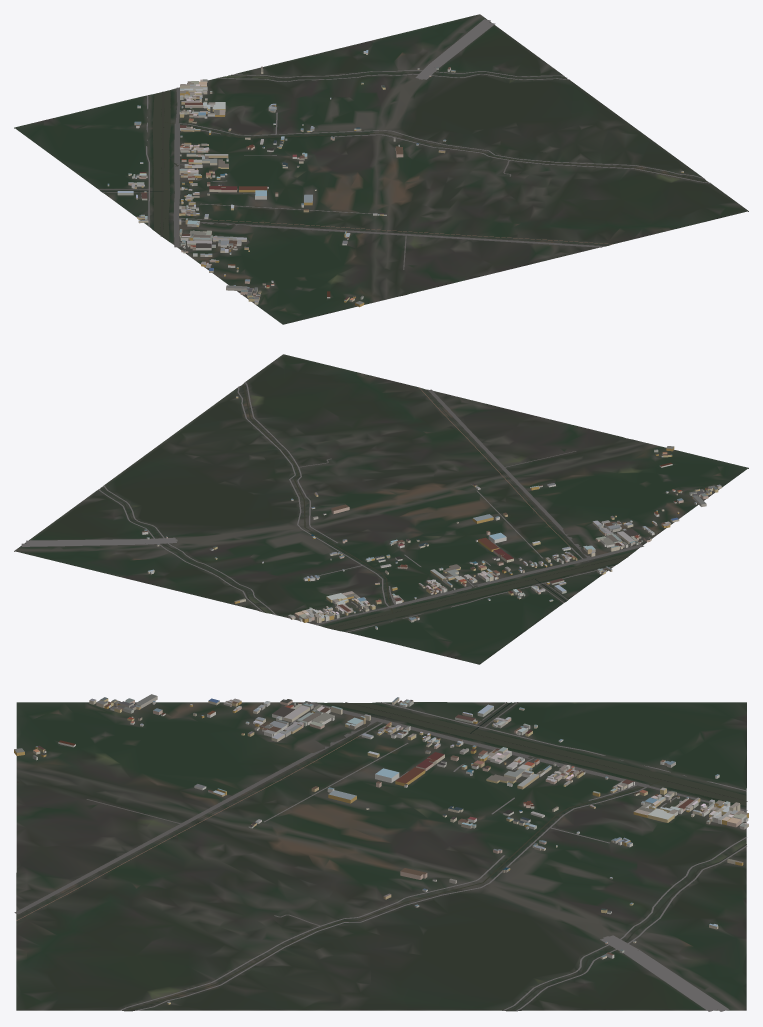
3 views of the same model, one above another, from view 1: azimuth 30°, elevation 25°; view 2: azimuth 150°, elevation 25°; view 3: azimuth 270°, elevation 25° (orthographic). The views are drawn at different scales.
Visible parts, largest first — view 1: ground, buildings, roads, water; view 2: ground, buildings, roads, water; view 3: ground, buildings, roads, water.
Boxes of the visible parts, box(x1,y1,x2,y2) form: ground: box(14, 14, 748, 324); buildings: box(107, 50, 683, 307); roads: box(98, 19, 710, 269); water: box(101, 72, 707, 295); ground: box(14, 354, 748, 664); buildings: box(142, 396, 721, 629); roads: box(21, 382, 643, 632); water: box(101, 384, 633, 630); ground: box(16, 702, 746, 1011); buildings: box(14, 694, 748, 1004); roads: box(14, 701, 747, 1011); water: box(16, 702, 747, 1011).
Bounding box in the file's own units: 1427 × 20.22 × 1410.
